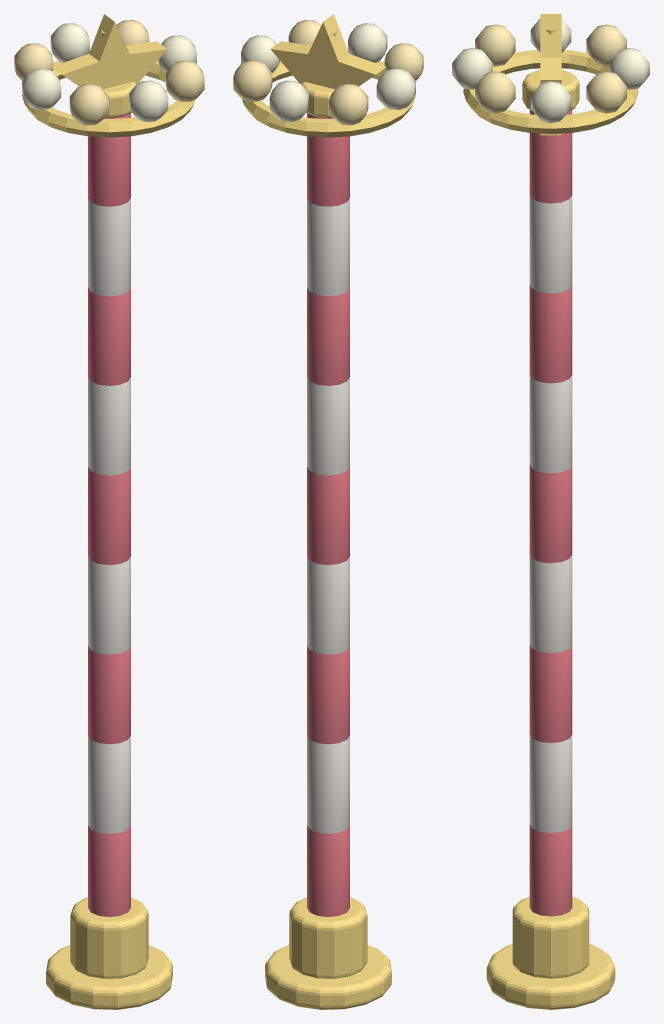
Rendered from PumpLightPole.glb.
The picture shows the model from 3 angles, left to right: view 1: azimuth 30°, elevation 25°; view 2: azimuth 150°, elevation 25°; view 3: azimuth 270°, elevation 25°; orthographic projection.
Visible parts, largest first — view 1: PoleA, Foot, PoleB, BulbsA, BulbsB; view 2: PoleA, Foot, PoleB, BulbsA, BulbsB; view 3: PoleA, Foot, PoleB, BulbsB, BulbsA.
Boxes of the visible parts, x1,y1,x2,y2 form: PoleA: (88, 113, 130, 916); Foot: (22, 14, 195, 1009); PoleB: (88, 198, 130, 833); BulbsA: (22, 23, 196, 121); BulbsB: (14, 20, 204, 125); PoleA: (307, 113, 349, 916); Foot: (242, 14, 415, 1009); PoleB: (307, 198, 349, 833); BulbsA: (241, 23, 415, 121); BulbsB: (233, 20, 423, 125); PoleA: (529, 110, 572, 916); Foot: (463, 14, 638, 1009); PoleB: (529, 195, 572, 832); BulbsB: (475, 24, 626, 113); BulbsA: (452, 18, 649, 123).
Bounding box in the file's own units: 2.77 × 15 × 2.77.
